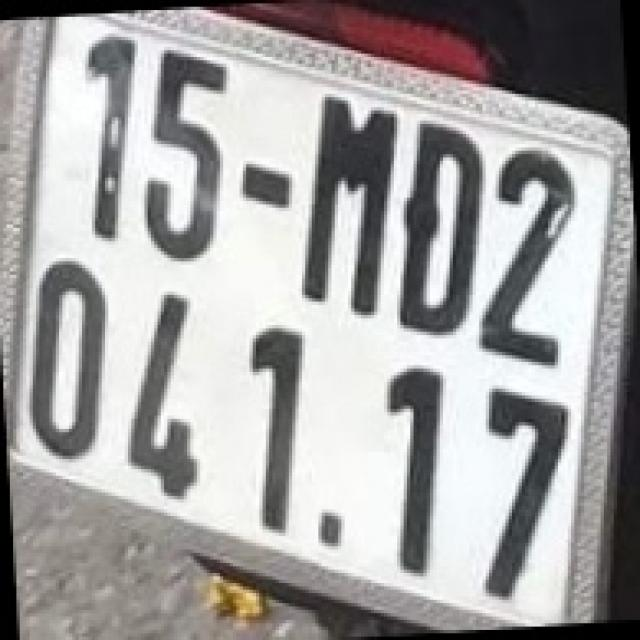0: (23, 258, 112, 462)
1: (240, 318, 315, 540), (378, 362, 450, 576), (79, 30, 138, 241)
2: (482, 141, 578, 365)
4: (125, 288, 210, 506)
5: (144, 44, 230, 262)
7: (476, 382, 571, 600)
D: (397, 114, 483, 335)
M: (299, 90, 397, 312)
